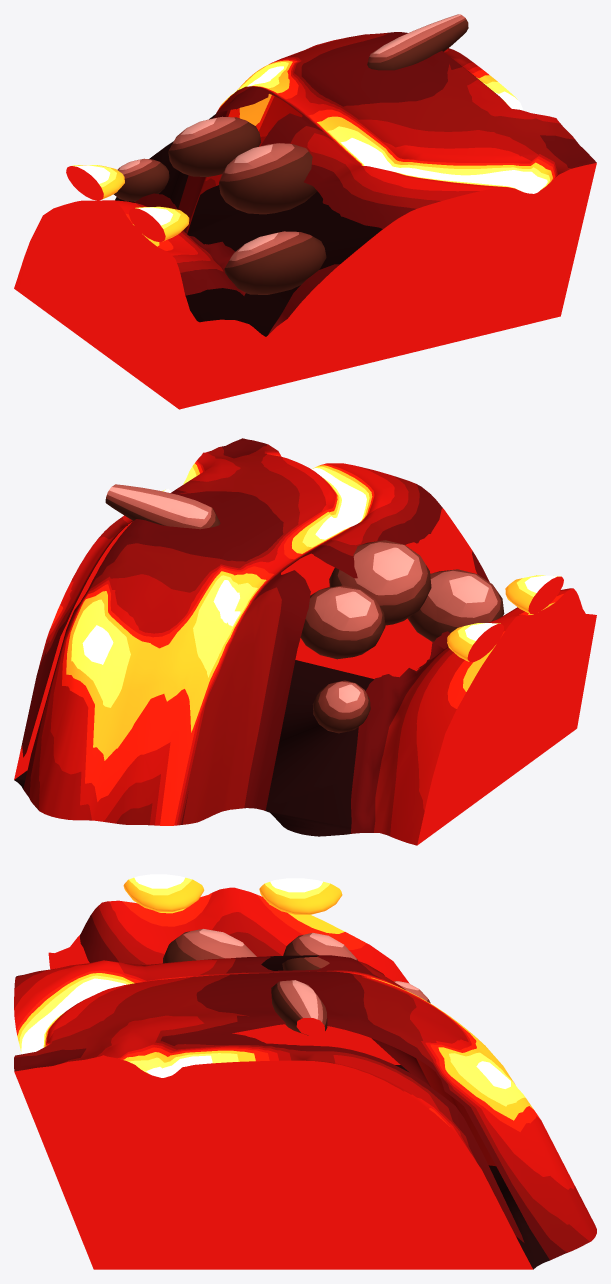
File: lava_grub_l_t2.glb
3 views of the same model, one above another, from view 1: azimuth 30°, elevation 25°; view 2: azimuth 150°, elevation 25°; view 3: azimuth 270°, elevation 25° (orthographic). The views are drawn at different scales.
Parts seen in each view (by area): view 1: lava_grub_l_t2; view 2: lava_grub_l_t2; view 3: lava_grub_l_t2.
Boxes of the visible parts, left/top/right/bottom form: lava_grub_l_t2: left=14, top=14, right=596, bottom=409; lava_grub_l_t2: left=14, top=438, right=596, bottom=845; lava_grub_l_t2: left=14, top=874, right=596, bottom=1269.
Size of the model in its own units: 24 by 13.76 by 28.88.
